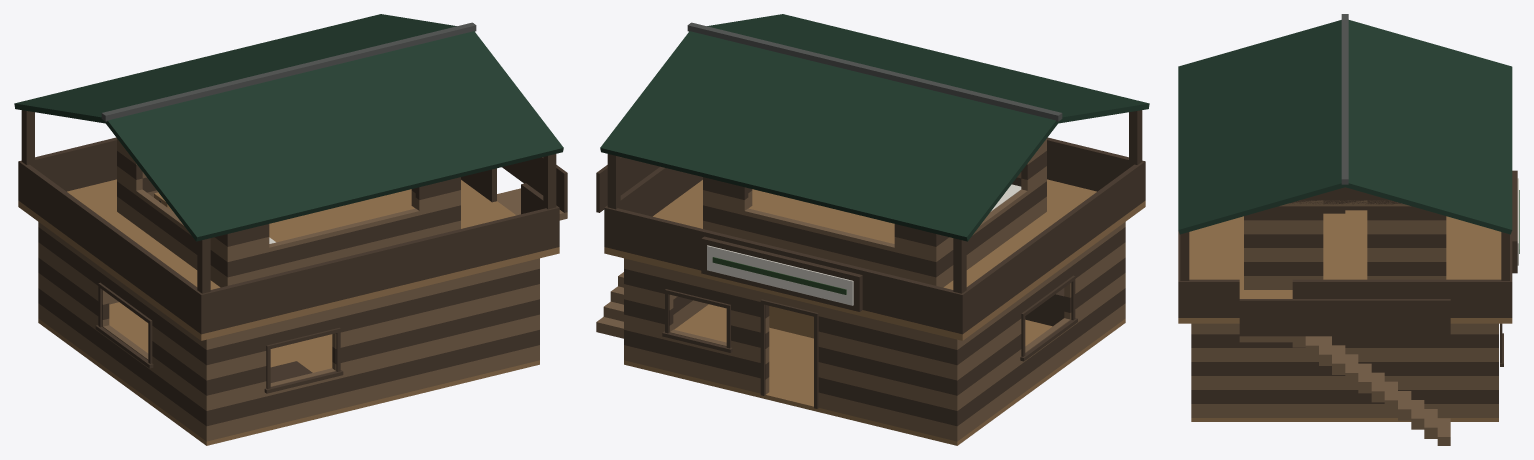
Rendered from ranger_station.glb.
3 renders of one model, left to right at view 1: azimuth 30°, elevation 25°; view 2: azimuth 150°, elevation 25°; view 3: azimuth 270°, elevation 25°, orthographic. The views are drawn at different scales.
Visible parts, largest first — view 1: ranger_station; view 2: ranger_station; view 3: ranger_station.
Part boxes in pixels (<box>): ranger_station: <box>14,14,567,445</box>; ranger_station: <box>596,14,1149,445</box>; ranger_station: <box>1178,14,1519,445</box>.
Size of what is drawn, in the model's own units: 9.75 by 6.3 by 7.77.
Materials: 1 (1 with a texture image).
